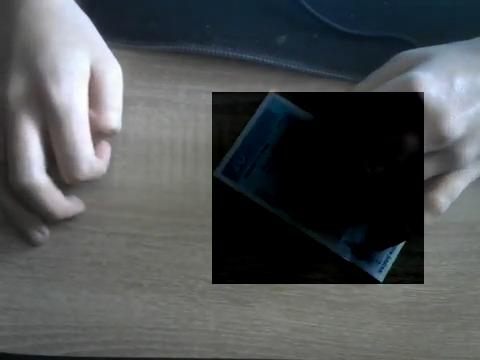20leva: (212, 92, 424, 284)
